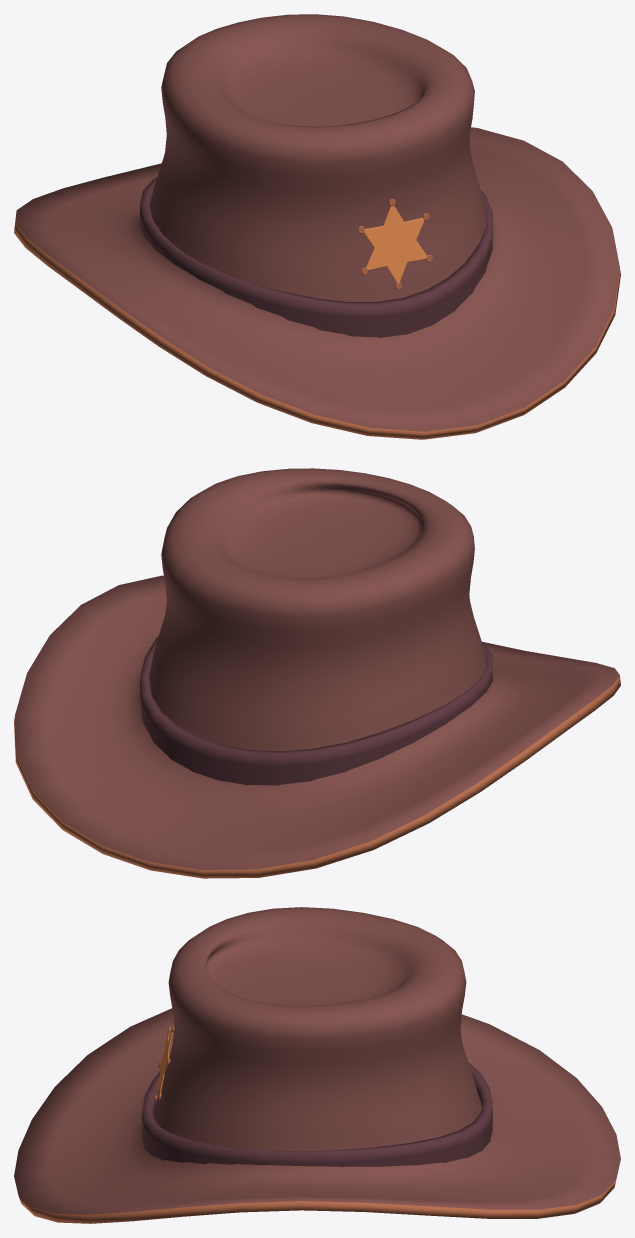
Rendered from HAT.glb.
3 renders of one model, top to bottom at view 1: azimuth 30°, elevation 25°; view 2: azimuth 150°, elevation 25°; view 3: azimuth 270°, elevation 25°, orthographic. The views are drawn at different scales.
Parts seen in each view (by area): view 1: Plane, Plane.001, Plane.002; view 2: Plane, Plane.001; view 3: Plane, Plane.001, Plane.002.
Part boxes in pixels (bbox=[...]): Plane: bbox=[14, 14, 620, 439]; Plane.001: bbox=[140, 177, 492, 337]; Plane.002: bbox=[357, 198, 432, 289]; Plane: bbox=[14, 468, 620, 878]; Plane.001: bbox=[140, 636, 492, 785]; Plane: bbox=[14, 907, 620, 1223]; Plane.001: bbox=[142, 1062, 492, 1166]; Plane.002: bbox=[154, 1025, 174, 1101].
Size of the model in its own units: 2.74 by 1.3 by 3.2.
Materials: 1 (1 with a texture image).
